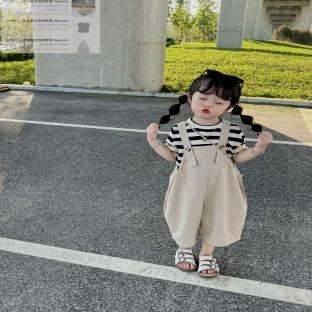Human: (147, 69, 273, 277)
